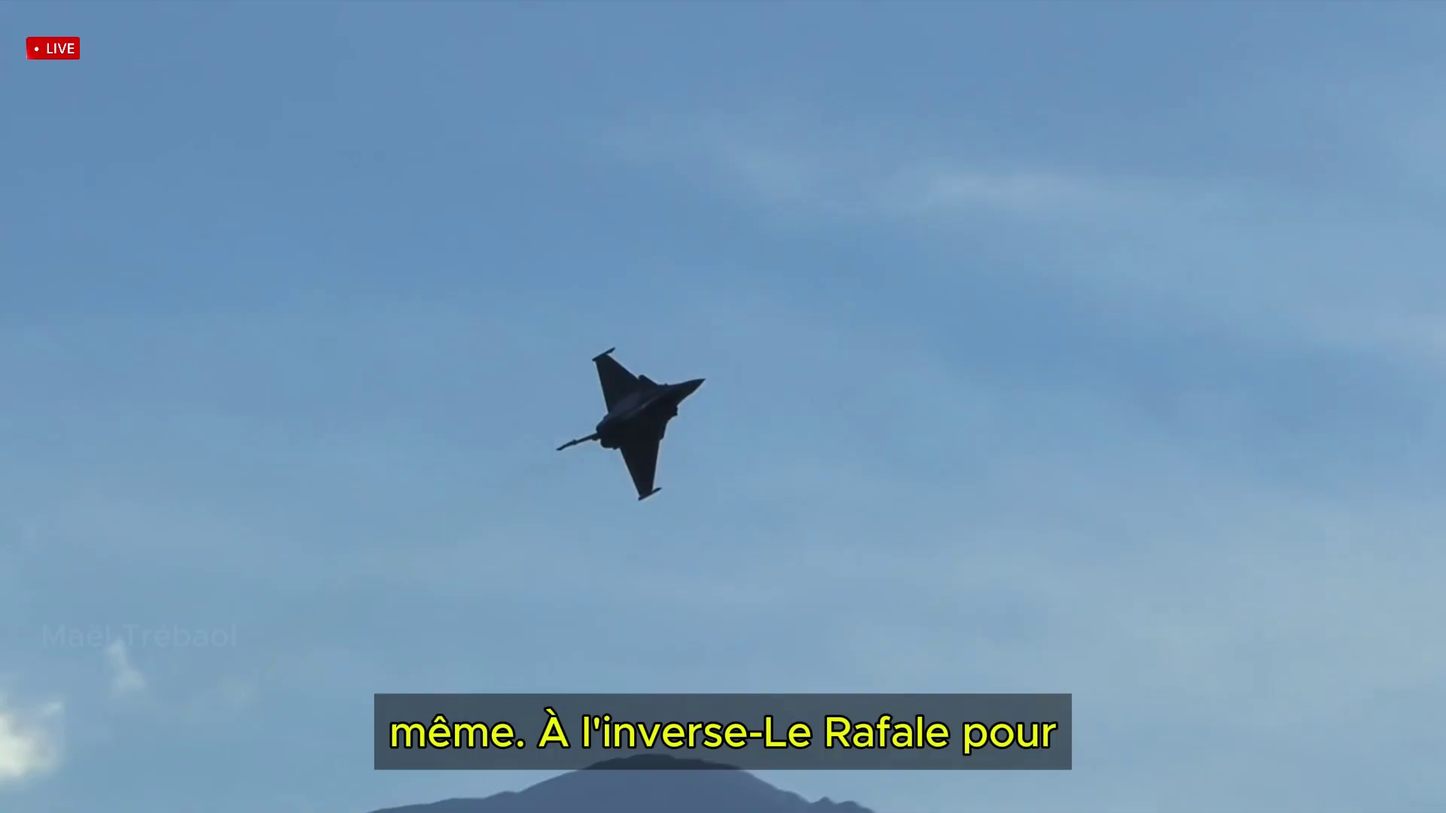Rafale: (551, 342, 708, 505)
